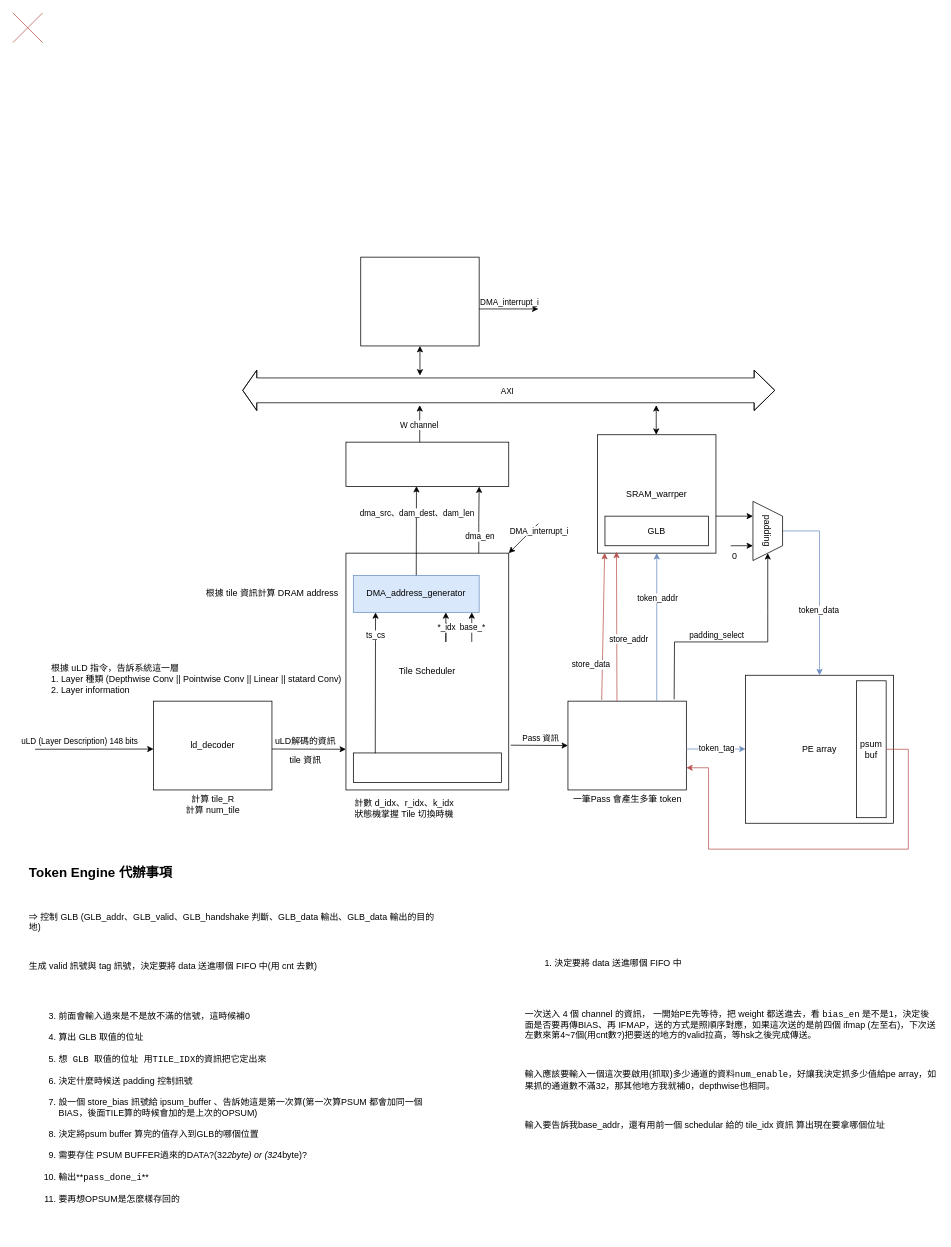
Some shapes in this 951 by 1247 pixel diagram are drawn without their labels. Each missing label, with the centre of its shape:
Controller_AXI_Wrapper: the point at 427,464
DMA (含 wrapper、Burst FIFO): the point at 419,301
Tile/DMA FSM: the point at 427,767
token engin: the point at 626,745
